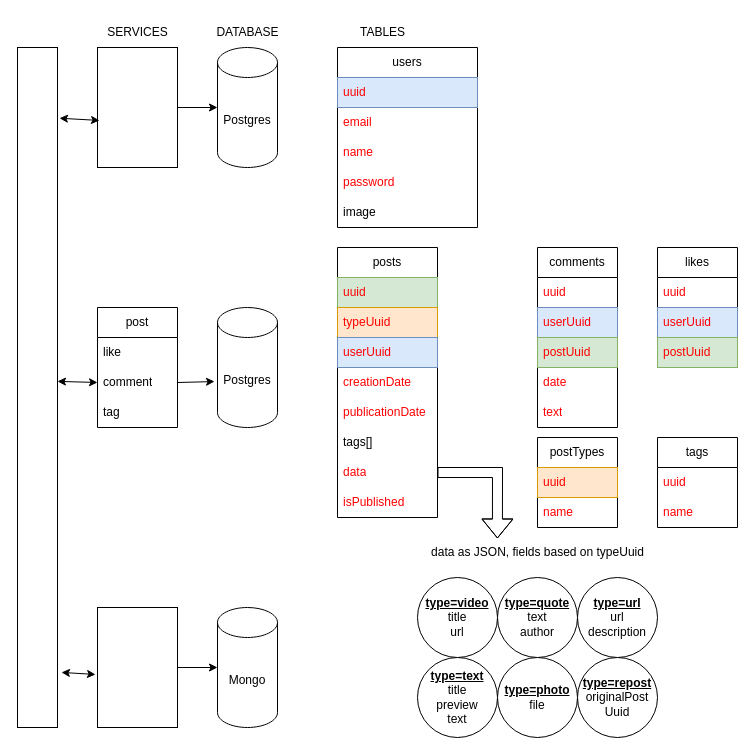
This 755x755 diagram has some shape labels left out. The shapes that lost their labels are listed below. From the top down, each one's centre as x and y in pixels, then its label:
(137,107): user
(37,387): API Gateway
(137,667): notification
